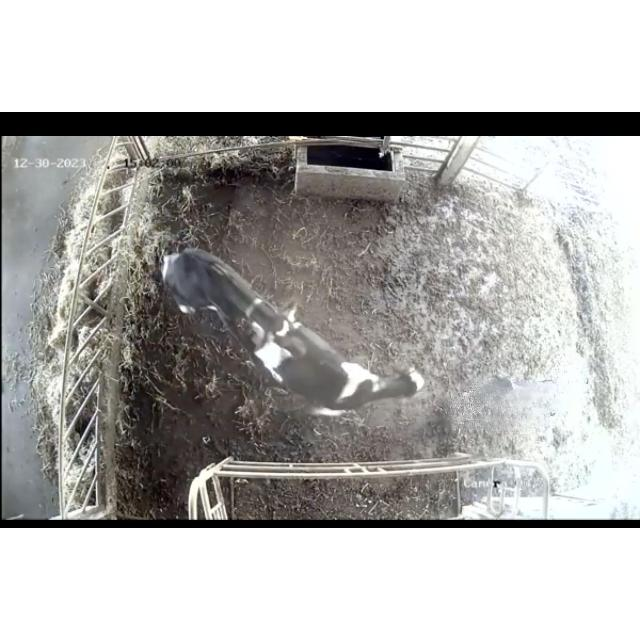ride: (150, 238, 314, 370)
stand: (256, 296, 436, 419)
